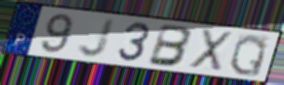3: (116, 21, 151, 63)
9: (38, 13, 76, 56)
B: (146, 23, 195, 69)
J: (76, 16, 117, 59)
Q: (227, 33, 270, 78)
X: (187, 27, 235, 74)
